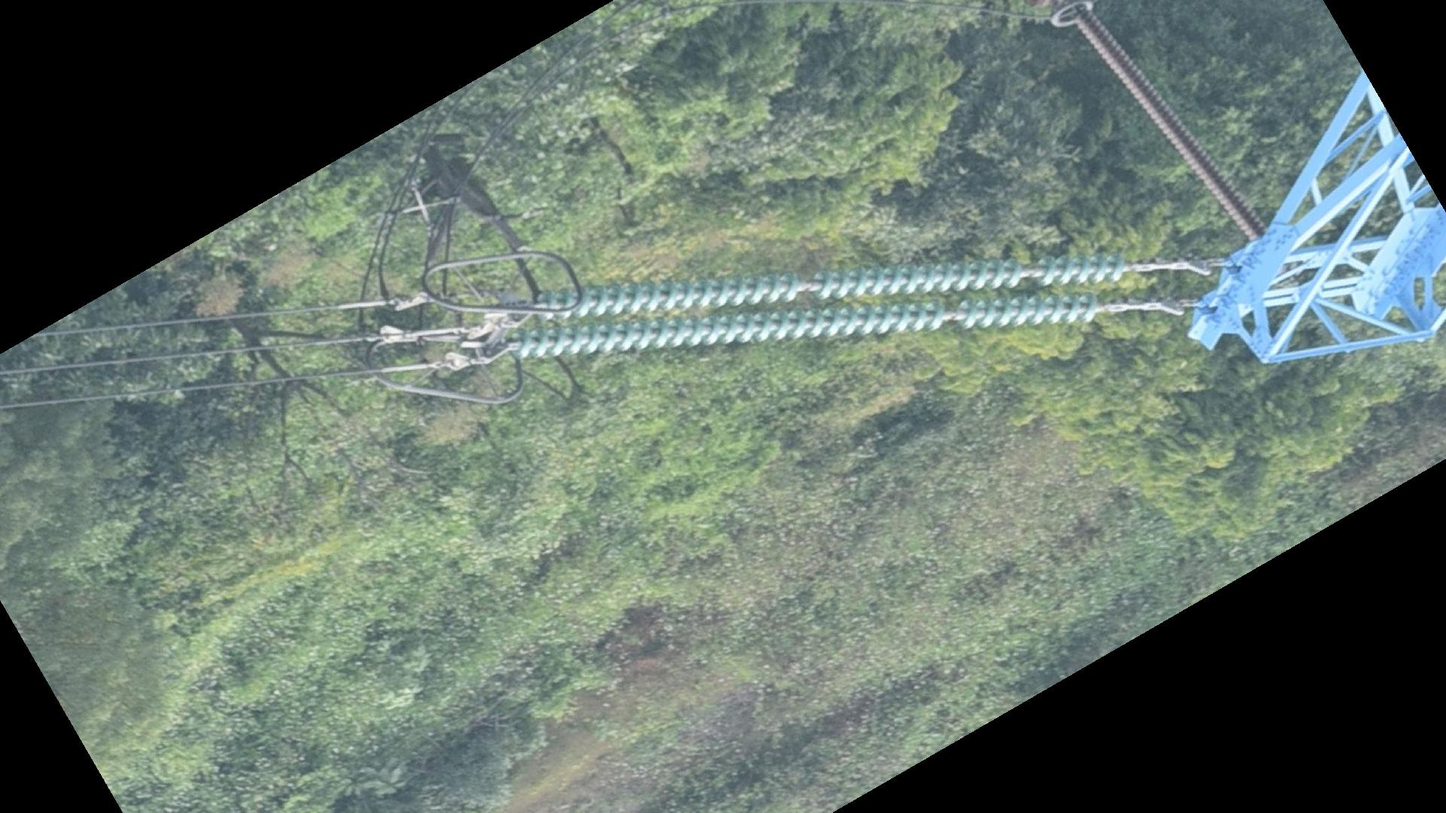insulator: (500, 240, 1134, 360), (1067, 2, 1268, 245)
insulator_stringdrop: (999, 251, 1061, 292), (922, 293, 980, 335), (779, 266, 835, 306)
